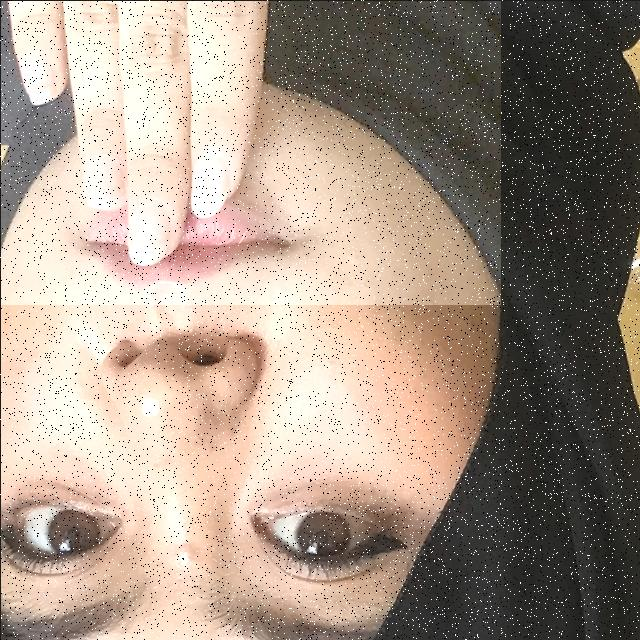ganteng: (0, 0, 500, 304)
